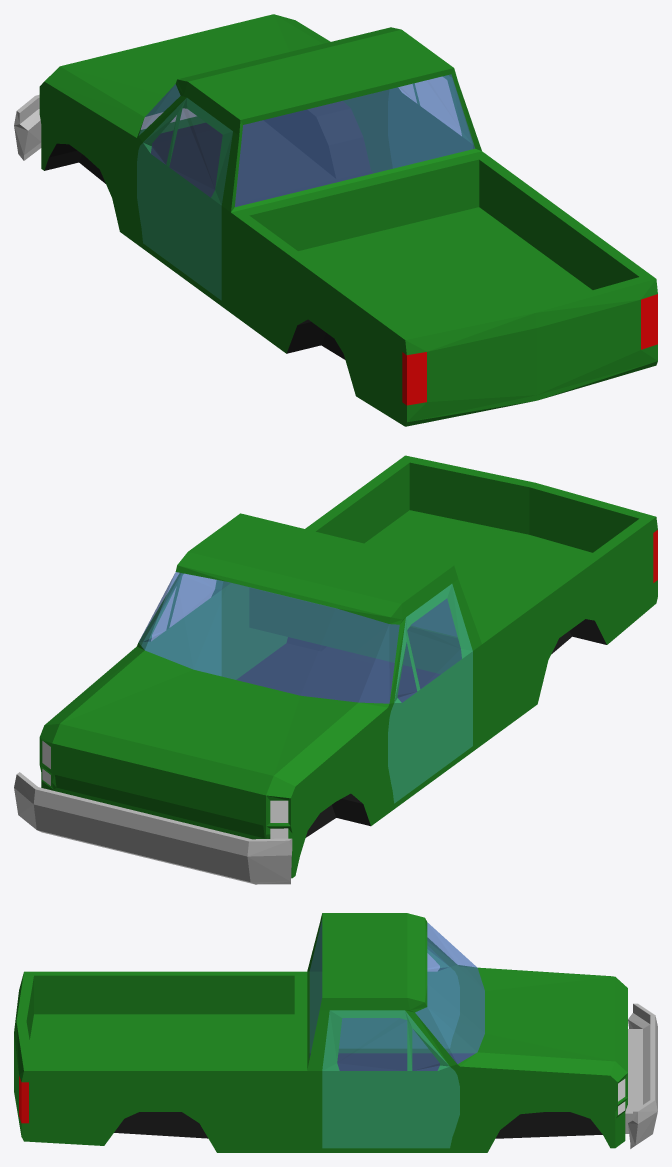
Rendered from Pick Up.fbx.
The picture shows the model from 3 angles, top to bottom: view 1: azimuth 30°, elevation 25°; view 2: azimuth 150°, elevation 25°; view 3: azimuth 270°, elevation 25°; orthographic projection. The views are drawn at different scales.
Parts seen in each view (by area): view 1: _(Loose Entity); view 2: _(Loose Entity); view 3: _(Loose Entity).
Boxes of the visible parts, x1,y1,x2,y2 form: _(Loose Entity): (14, 14, 657, 426); _(Loose Entity): (14, 455, 657, 884); _(Loose Entity): (14, 913, 657, 1152).
Bounding box in the file's own units: 264 × 165 × 653.
